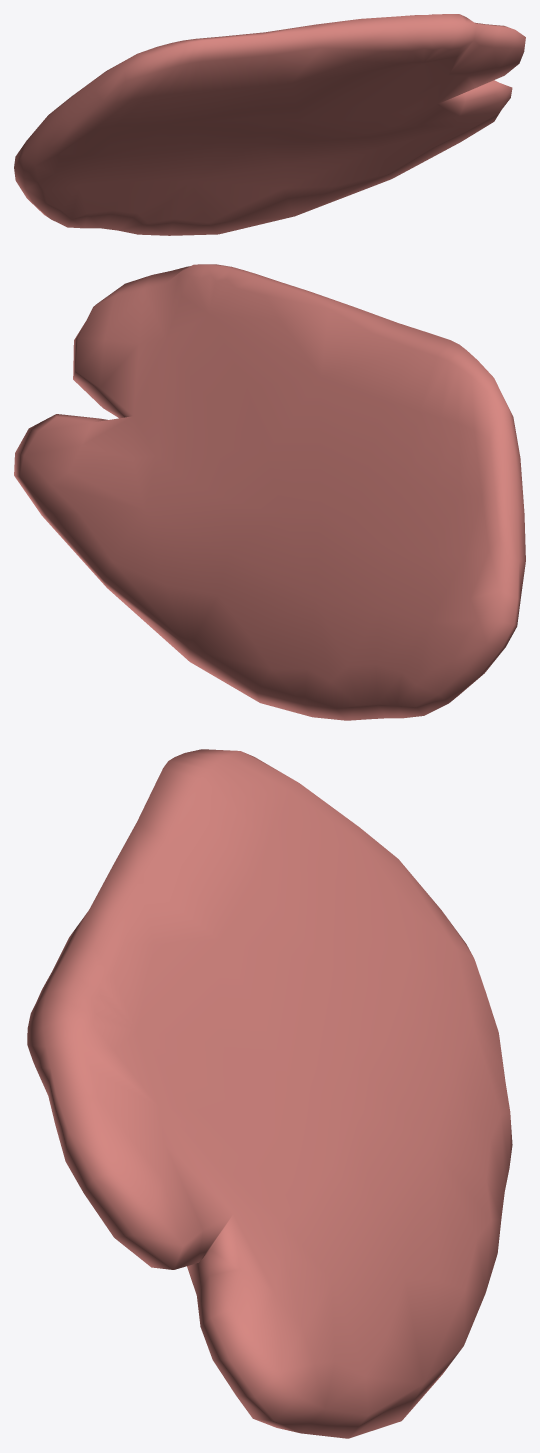
The picture shows the model from 3 angles, top to bottom: view 1: azimuth 30°, elevation 25°; view 2: azimuth 150°, elevation 25°; view 3: azimuth 270°, elevation 25°; orthographic projection. The views are drawn at different scales.
Visible parts, largest first — view 1: ZA_21da128a77dddfe8; view 2: ZA_21da128a77dddfe8; view 3: ZA_21da128a77dddfe8.
Part boxes in pixels (x1,y1,x2,y2): ZA_21da128a77dddfe8: (14,14,525,235); ZA_21da128a77dddfe8: (14,264,525,720); ZA_21da128a77dddfe8: (27,749,512,1438).
Size of the model in its own units: 0.00638 by 0.00355 by 0.00298.
